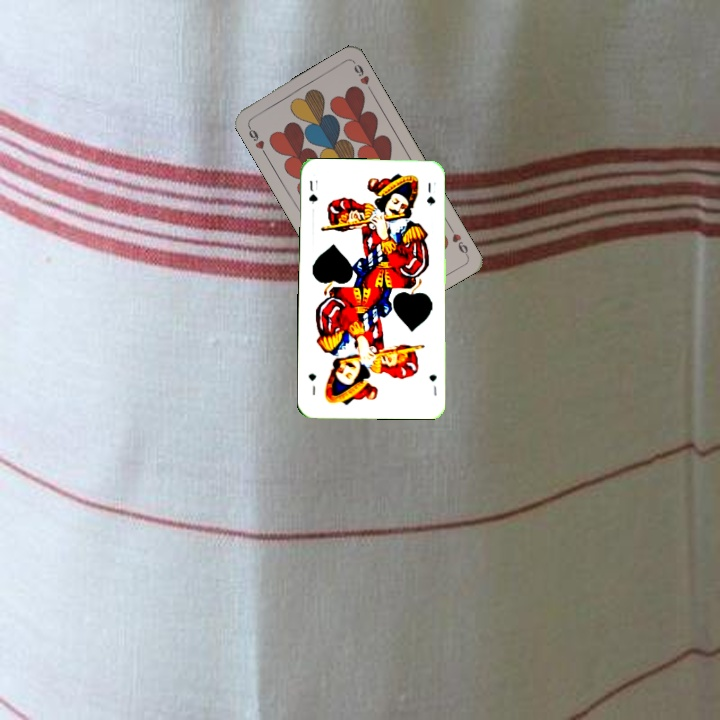GU: (305, 177, 320, 206), (425, 370, 439, 398)
H9: (445, 222, 471, 259), (244, 121, 269, 158)
